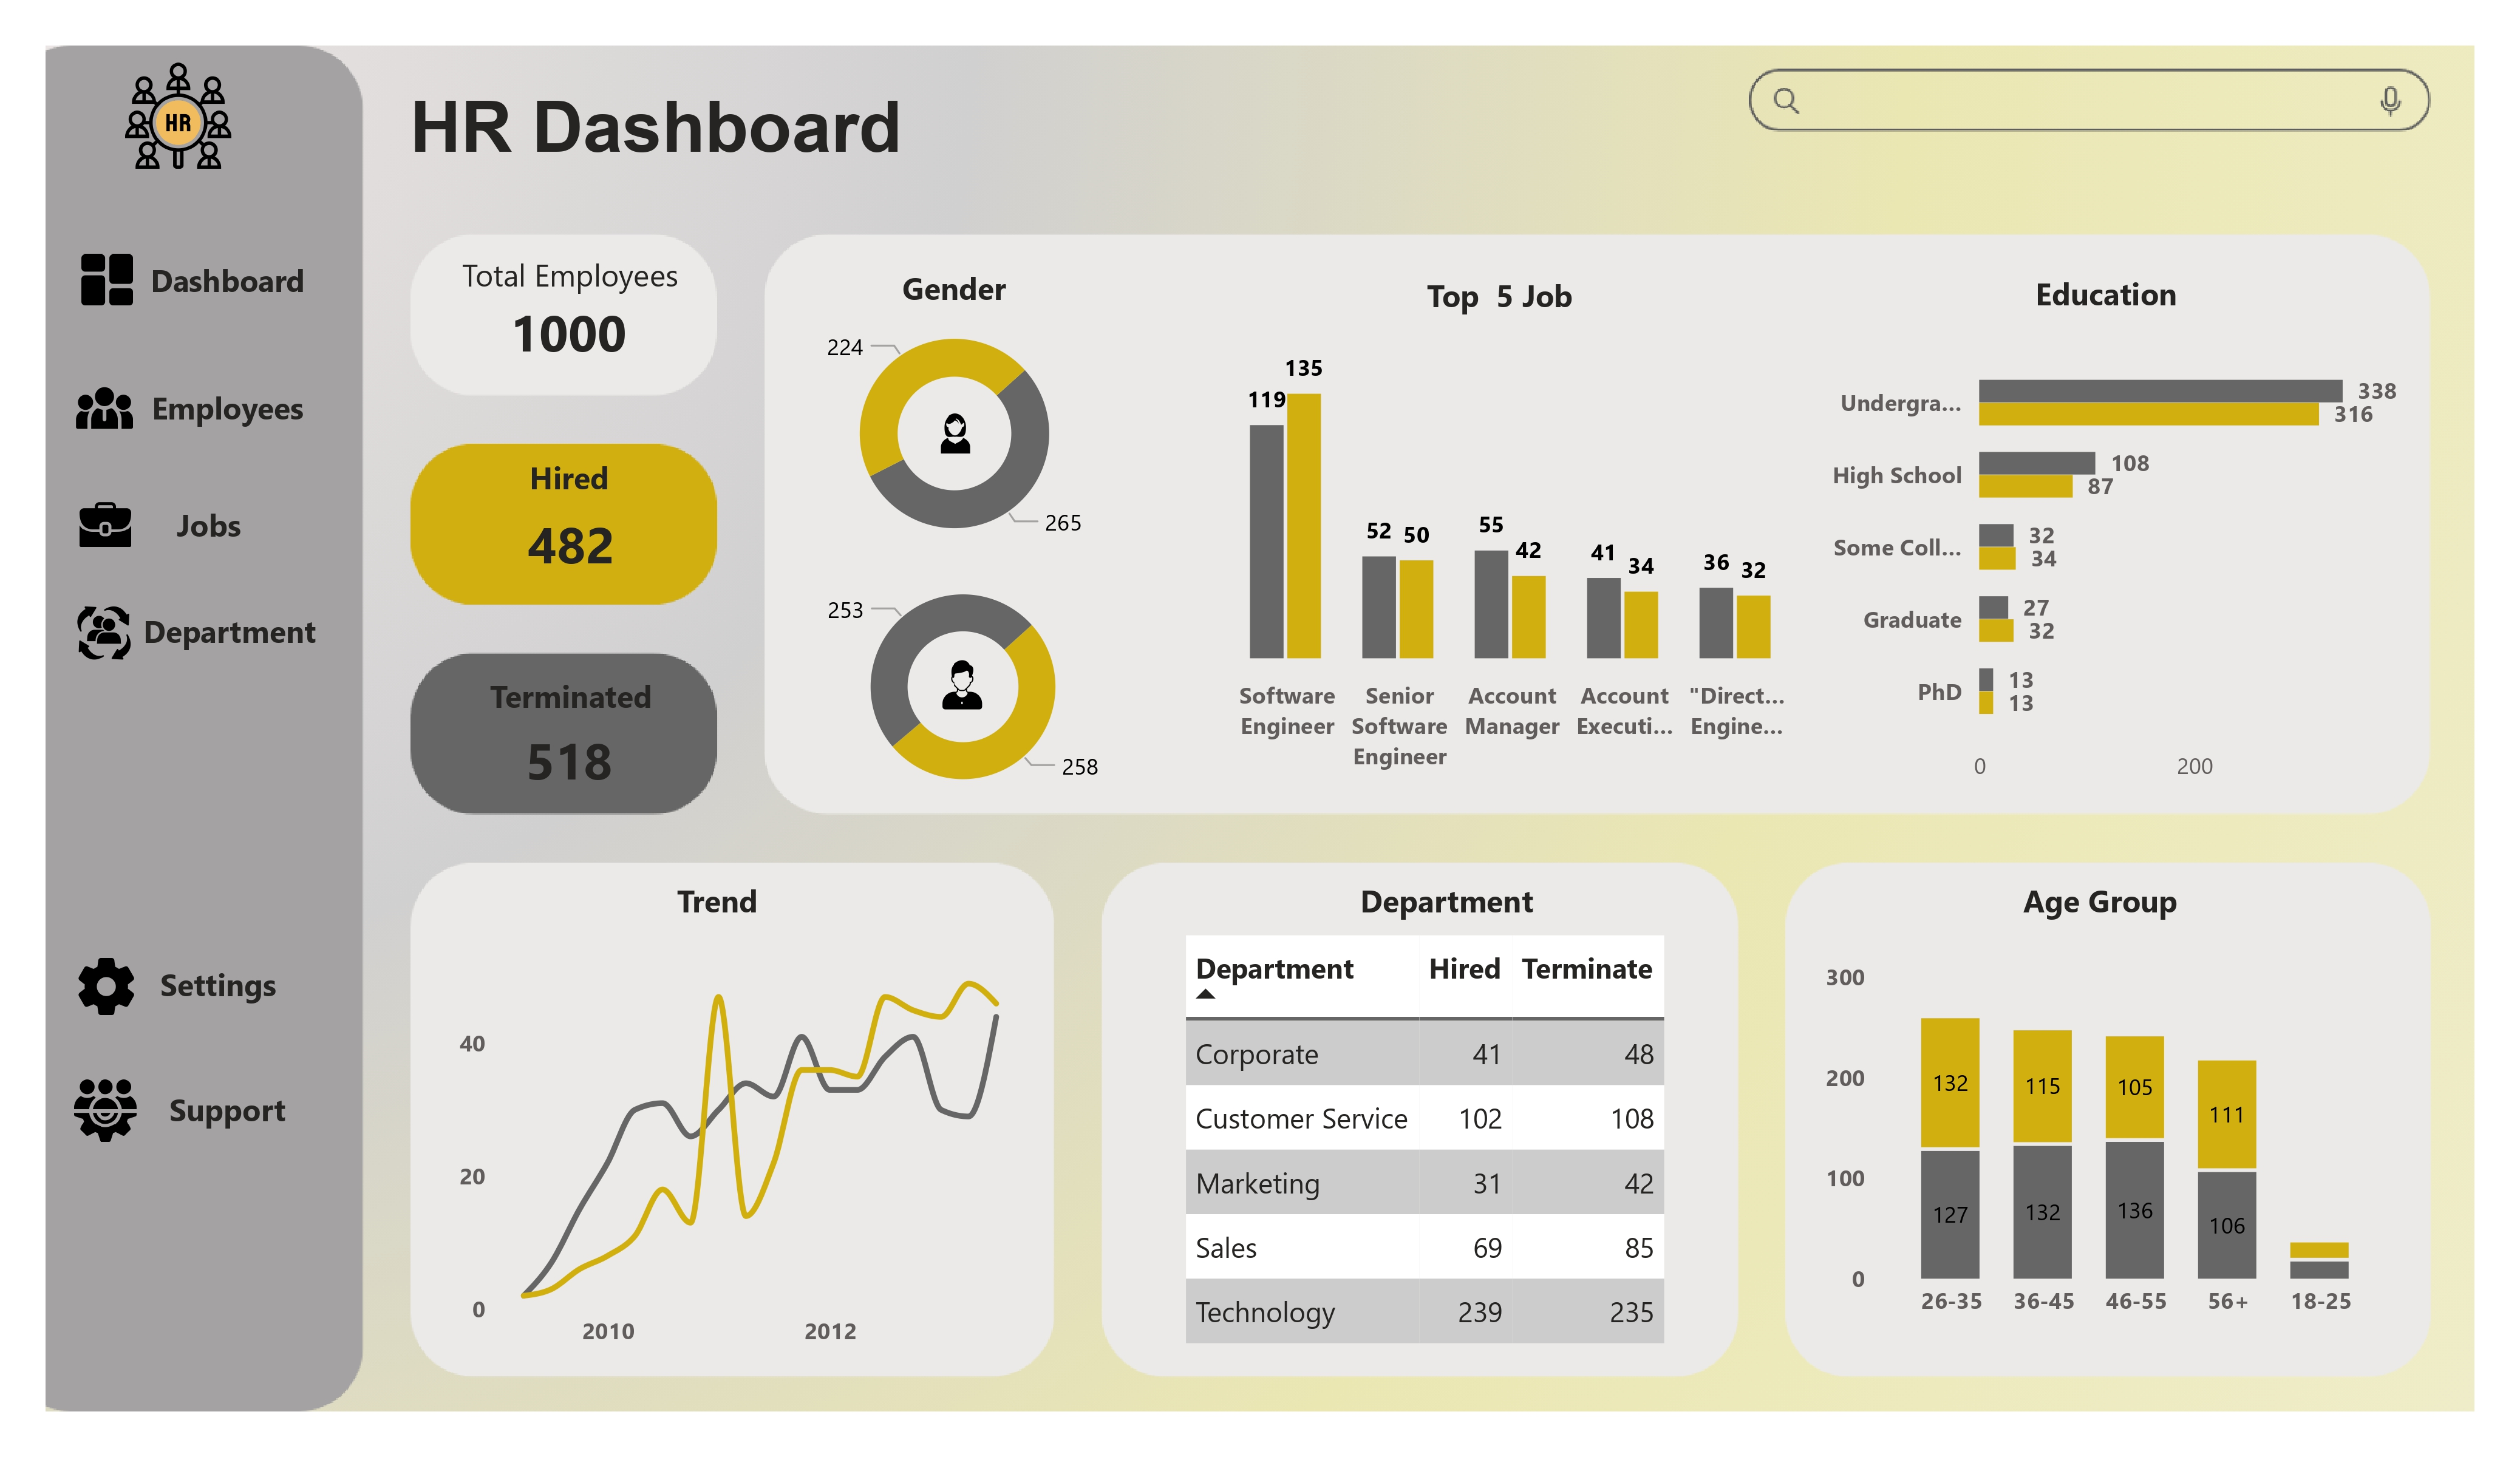

Layout of this report page (visuals, bound fields, positions):
{"tool":"powerbi","page":{"name":"Page 1","canvas":[1280,720],"ordinal":0},"visuals":[{"type":"textbox","box":[186.7,16.7,296.7,56.7],"z":0},{"type":"card","fields":{"Values":["HR_Dataset.Total Employees"]},"box":[210,130,131,44],"z":1000},{"type":"card","fields":{"Values":["HR.Hired"]},"box":[223,248,108,31],"z":2000},{"type":"card","fields":{"Values":["HR.Terminate"]},"box":[221.8,360,108,34.6],"z":3000},{"type":"donutChart","fields":{"Category":["HR.Active_Status"],"Y":["CountNonNull(HR.Gender)"]},"box":[391.7,125.3,174.2,158.4],"z":4000},{"type":"donutChart","fields":{"Category":["HR.Active_Status"],"Y":["CountNonNull(HR.Gender)"]},"box":[391.7,263.5,182.9,148.3],"z":5000},{"type":"columnChart","fields":{"Category":["HR.Age_Group"],"Y":["CountNonNull(HR.EmployeeID)"],"Series":["HR.Active_Status"]},"box":[933.3,476.7,306.7,203.3],"z":6000},{"type":"clusteredBarChart","fields":{"Category":["HR.Education"],"Y":["CountNonNull(HR.EmployeeID)"],"Series":["HR.Active_Status"]},"box":[923.3,148.3,331.7,250],"z":7000},{"type":"lineChart","fields":{"Y":["CountNonNull(HR.EmployeeID)"],"Series":["HR.Active_Status"],"Category":["HR.Start_Date.Variation.Date Hierarchy.Year","HR.Start_Date.Variation.Date Hierarchy.Quarter"]},"box":[213.1,476.6,306.7,218.9],"z":8000},{"type":"tableEx","fields":{"Values":["HR.Department","HR.Hired","HR.Terminate"]},"box":[594.7,463.7,288,231.8],"z":9000},{"type":"clusteredColumnChart","fields":{"Category":["HR.Job_title"],"Y":["CountNonNull(HR.EmployeeID)"],"Series":["HR.Active_Status"]},"box":[595,148.3,345,241.7],"z":10000},{"type":"textbox","box":[198.7,105.1,155.5,33.1],"z":11000},{"type":"textbox","box":[401.8,112.3,154.1,33.1],"z":12000},{"type":"image","box":[463.7,182.9,31.7,41.8],"z":13000},{"type":"textbox","box":[688.6,115.7,155.7,32.9],"z":14000},{"type":"textbox","box":[1005.1,434.9,155.5,33.1],"z":15000},{"type":"textbox","box":[1007.5,115,156.2,33.8],"z":16000},{"type":"image","box":[465.1,309.6,36,53.3],"z":17000},{"type":"textbox","box":[661,434.9,155.5,33.1],"z":18000},{"type":"textbox","box":[276.5,434.9,155.5,33.1],"z":19000},{"type":"textbox","box":[199,212,154,44],"z":20000},{"type":"textbox","box":[200.2,326.9,154.1,33.1],"z":21000},{"type":"image","box":[11.7,105,40,36.7],"z":22000},{"type":"textbox","box":[31.7,108.3,128.3,33.3],"z":23000},{"type":"image","box":[10,170,41.7,41.7],"z":24000},{"type":"textbox","box":[31.7,175,128.3,33.3],"z":25000},{"type":"image","box":[10,234.4,42.2,36.7],"z":26000},{"type":"textbox","box":[22.2,236.7,127.8,33.3],"z":27000},{"type":"image","box":[8.9,290,43.3,38.9],"z":28000},{"type":"textbox","box":[33.3,293.3,127.8,33.3],"z":29000},{"type":"image","box":[11.7,463.3,40,65],"z":30000},{"type":"textbox","box":[32.2,478.9,117.8,33.3],"z":31000},{"type":"image","box":[10,535,43.3,51.7],"z":32000},{"type":"textbox","box":[36.7,545,118.3,33.3],"z":33000},{"type":"image","box":[36.7,0,66.7,73.3],"z":34000}]}

Visuals, with their boxes on the page's 1280x720 design canvas (x1, y1, x2, y2). These are canvas units, not pixel positions in the 2520x1457 screenshot, which may show the page scaled, cropped or inside an application window:
textbox: [left=187, top=17, right=483, bottom=73]
card - HR_Dataset.Total Employees: [left=210, top=130, right=341, bottom=174]
card - HR.Hired: [left=223, top=248, right=331, bottom=279]
card - HR.Terminate: [left=222, top=360, right=330, bottom=395]
donutChart - HR.Active_Status x CountNonNull(HR.Gender): [left=392, top=125, right=566, bottom=284]
donutChart - HR.Active_Status x CountNonNull(HR.Gender): [left=392, top=264, right=575, bottom=412]
columnChart - HR.Age_Group x CountNonNull(HR.EmployeeID): [left=933, top=477, right=1240, bottom=680]
clusteredBarChart - HR.Education x CountNonNull(HR.EmployeeID): [left=923, top=148, right=1255, bottom=398]
lineChart - CountNonNull(HR.EmployeeID) x HR.Active_Status: [left=213, top=477, right=520, bottom=696]
tableEx - HR.Department x HR.Hired: [left=595, top=464, right=883, bottom=696]
clusteredColumnChart - HR.Job_title x CountNonNull(HR.EmployeeID): [left=595, top=148, right=940, bottom=390]
textbox: [left=199, top=105, right=354, bottom=138]
textbox: [left=402, top=112, right=556, bottom=145]
image: [left=464, top=183, right=495, bottom=225]
textbox: [left=689, top=116, right=844, bottom=149]
textbox: [left=1005, top=435, right=1161, bottom=468]
textbox: [left=1008, top=115, right=1164, bottom=149]
image: [left=465, top=310, right=501, bottom=363]
textbox: [left=661, top=435, right=816, bottom=468]
textbox: [left=276, top=435, right=432, bottom=468]
textbox: [left=199, top=212, right=353, bottom=256]
textbox: [left=200, top=327, right=354, bottom=360]
image: [left=12, top=105, right=52, bottom=142]
textbox: [left=32, top=108, right=160, bottom=142]
image: [left=10, top=170, right=52, bottom=212]
textbox: [left=32, top=175, right=160, bottom=208]
image: [left=10, top=234, right=52, bottom=271]
textbox: [left=22, top=237, right=150, bottom=270]
image: [left=9, top=290, right=52, bottom=329]
textbox: [left=33, top=293, right=161, bottom=327]
image: [left=12, top=463, right=52, bottom=528]
textbox: [left=32, top=479, right=150, bottom=512]
image: [left=10, top=535, right=53, bottom=587]
textbox: [left=37, top=545, right=155, bottom=578]
image: [left=37, top=0, right=103, bottom=73]
